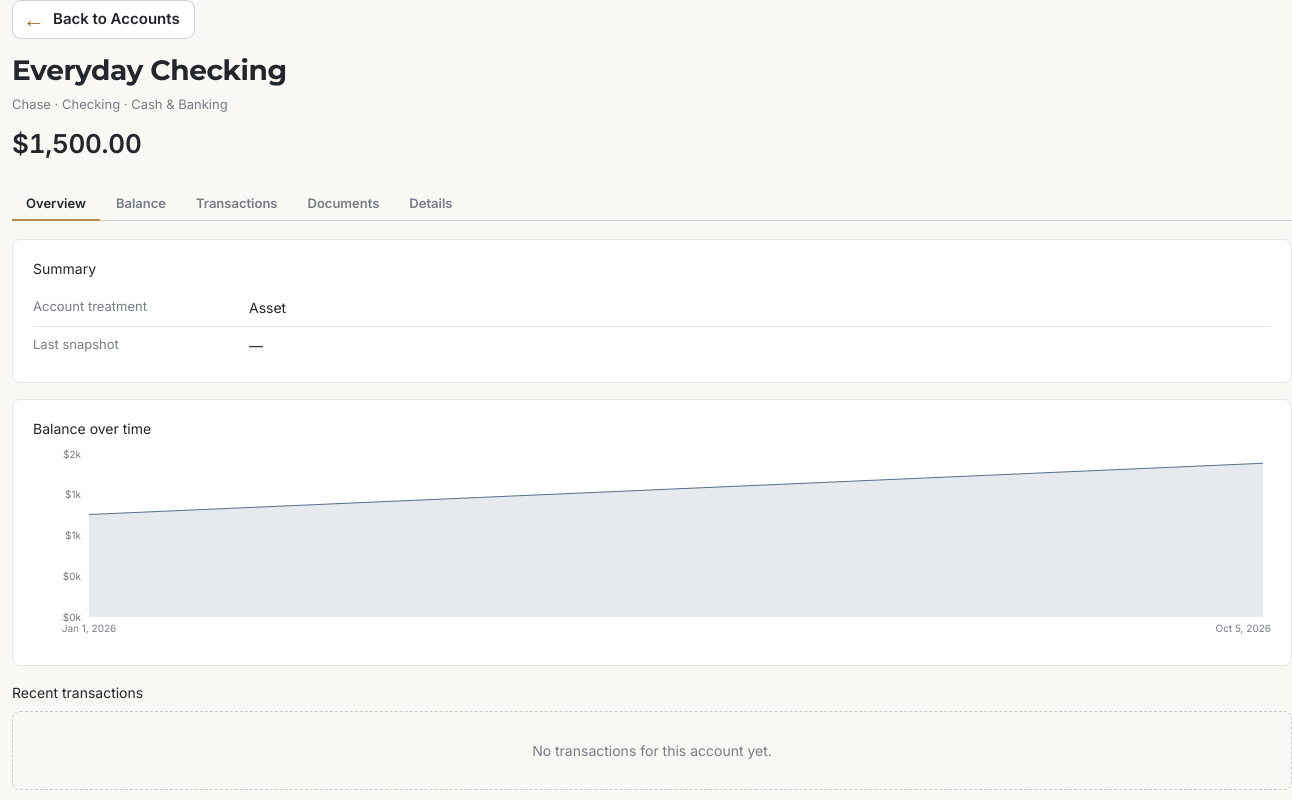
Test: AccountDetail tabs › explains the opening-balance anchor when there are no snapshots
Check: the heading "Everyday Checking" is shown, box [12,48,287,90]
Click the button "Balance". click: coordinates (141, 204)
box: [102,187,180,221]
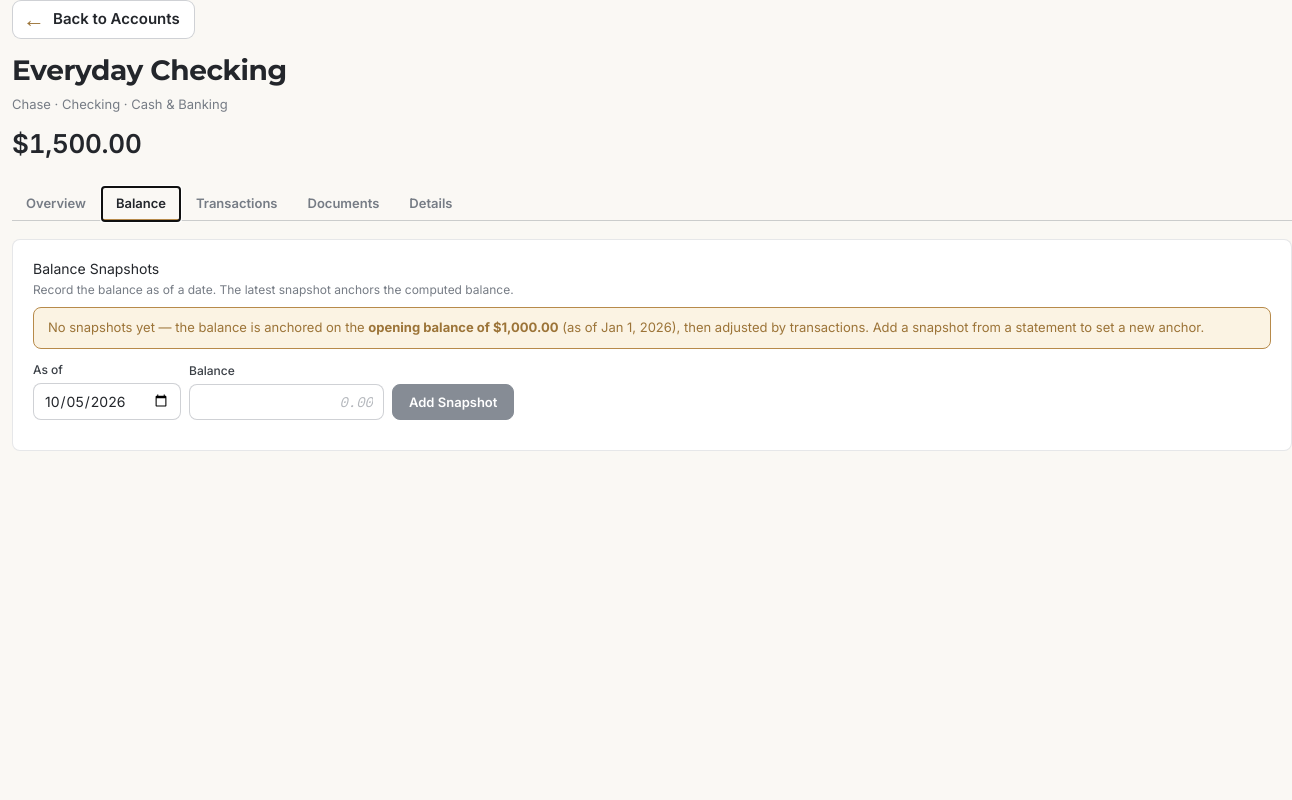
Check: the text "opening balance of $1,000.00" is shown, box [368,319,558,335]
